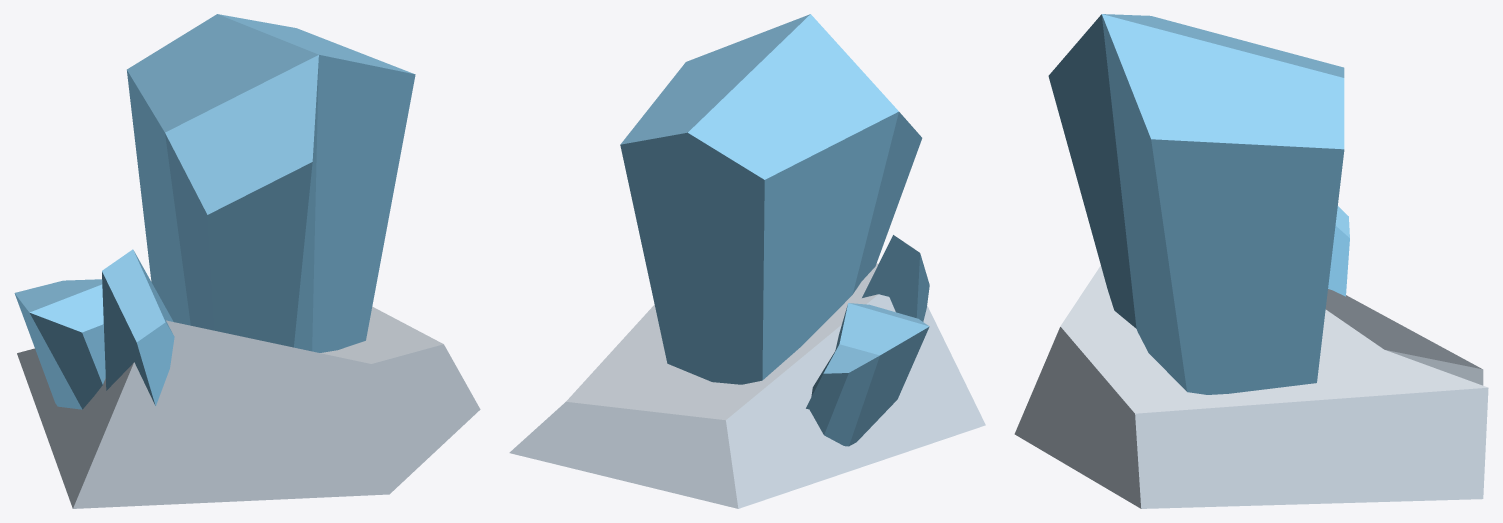
Rendered from Crystal_Alt4.fbx.
3 renders of one model, left to right at view 1: azimuth 30°, elevation 25°; view 2: azimuth 150°, elevation 25°; view 3: azimuth 270°, elevation 25°, orthographic. The views are drawn at different scales.
Parts seen in each view (by area): view 1: Crystal1_Alt4; view 2: Crystal1_Alt4; view 3: Crystal1_Alt4.
Part boxes in pixels (x1,y1,x2,y2): Crystal1_Alt4: (14, 14, 480, 508); Crystal1_Alt4: (509, 14, 985, 508); Crystal1_Alt4: (1014, 14, 1488, 508).
Bounding box in the file's own units: 1.05 × 1.02 × 1.07.
